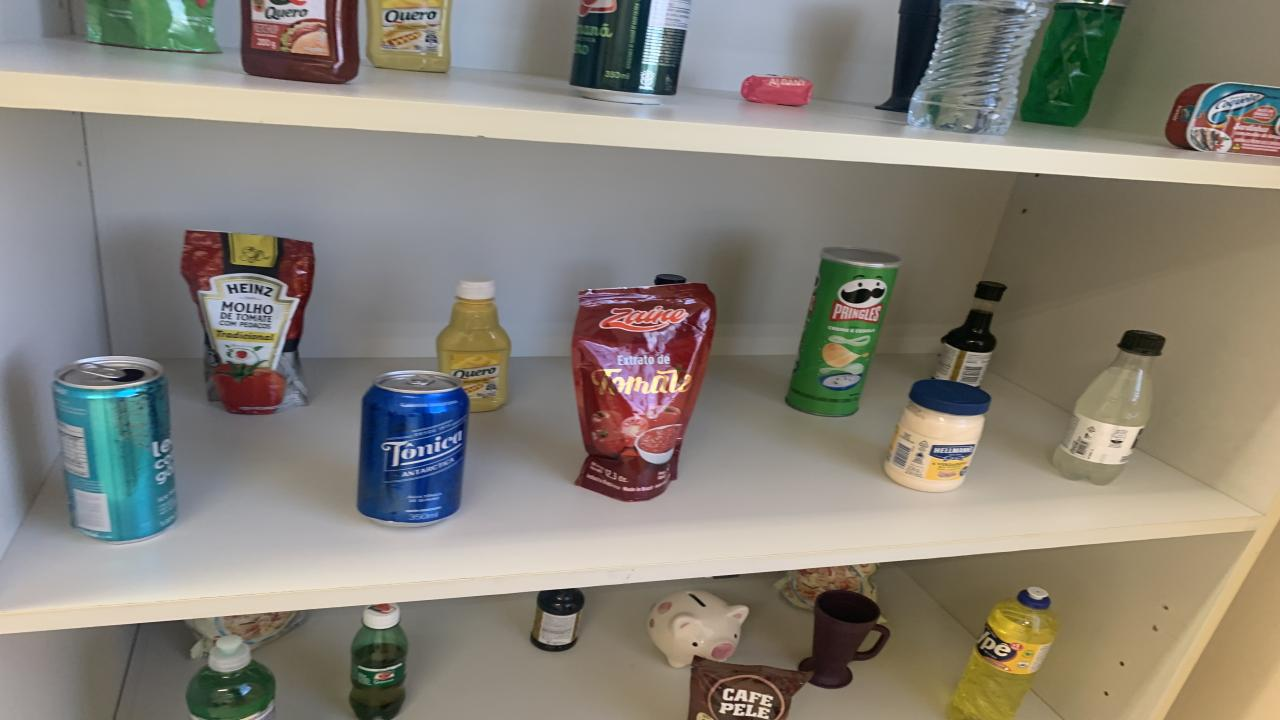Coffee-Pantry_Items: (688, 656, 812, 720)
Detergent-Cleanup_Items: (948, 587, 1060, 720), (1020, 0, 1128, 126), (185, 634, 275, 720)
English_Sauce-Pantry_Items: (935, 281, 1008, 386), (530, 589, 585, 651), (655, 274, 688, 285)
Flakes-Snacks: (185, 611, 308, 658), (775, 564, 878, 609)
Guarana-Drinks: (350, 606, 408, 720)
Guarana_Can-Drinks: (570, 0, 690, 105)
Ketchup-Pantry_Items: (240, 0, 360, 84)
Mayonnaise-Pantry_Items: (885, 379, 990, 493)
Mustard-Pantry_Items: (438, 278, 510, 412), (368, 0, 450, 73)
Pig_Safe-Miscellaneous: (648, 591, 750, 668)
Pringles-Snacks: (785, 248, 900, 416)
Soap-Cleanup_Items: (740, 75, 812, 107)
Soda-Drinks: (1052, 330, 1165, 486)
Tea-Drinks: (52, 356, 178, 542)
Tomato_Sauce-Pantry_Items: (572, 283, 715, 502), (180, 231, 315, 414), (88, 0, 220, 52)
Tonic-Drinks: (358, 371, 470, 527)
Tuna_Can-Pantry_Items: (1168, 82, 1280, 156)
Water_Bottle-Drinks: (908, 0, 1050, 135)
